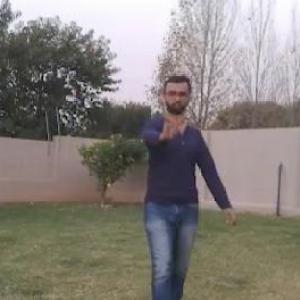takeoff-hand: (156, 103, 184, 142)
